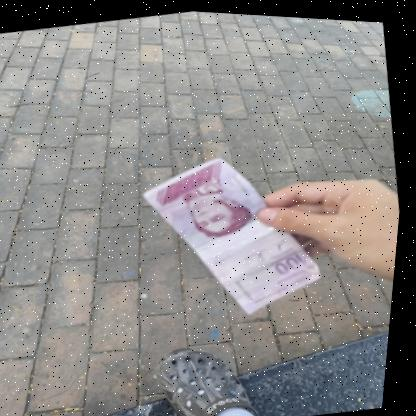one_hundred-front-vef: (131, 134, 340, 331)
